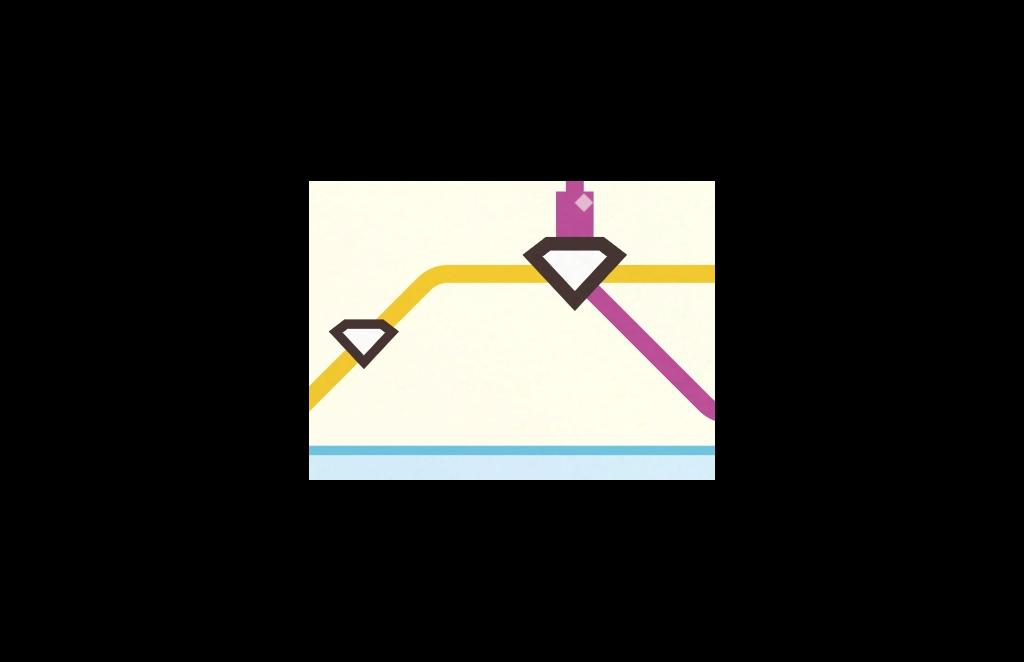connected_station: (520, 227, 638, 307), (329, 308, 416, 375)
train: (538, 182, 610, 234)
